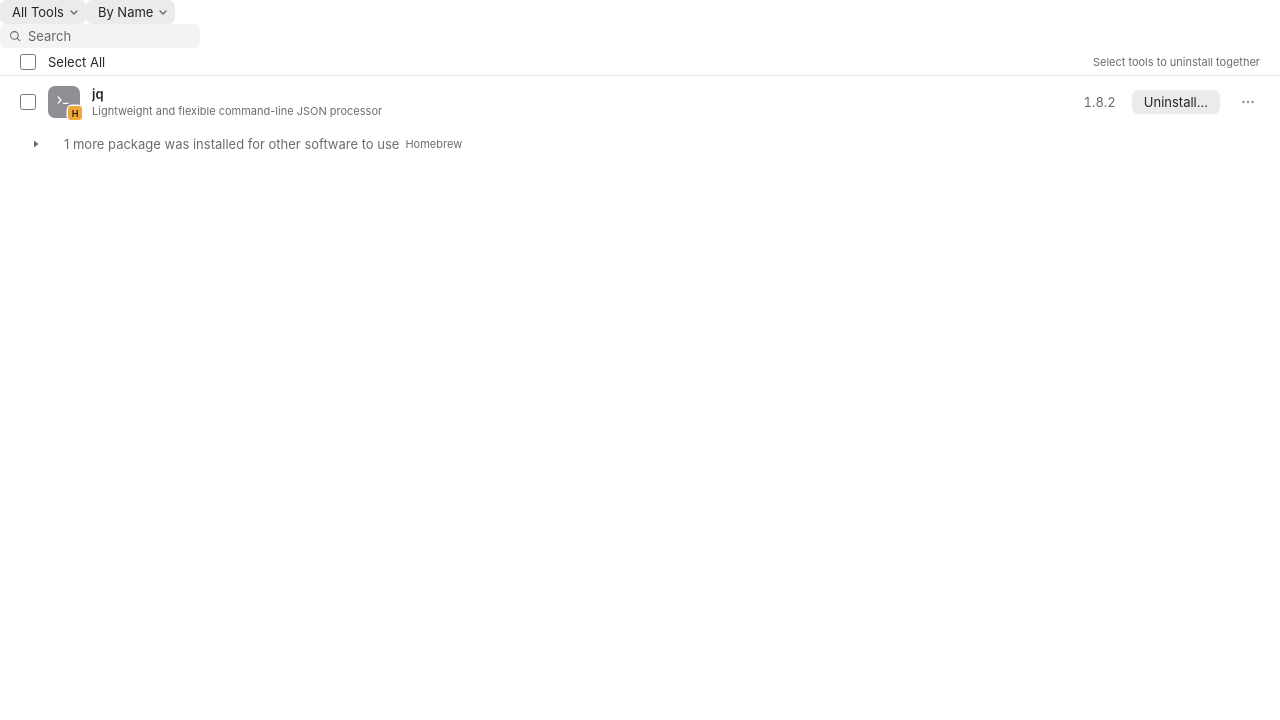
Scenario: InstalledPage › disables the dialog's confirm button when the plan reports dependents
The width and height of the screenshot is (1280, 720).
expect the text "jq" is shown: met, box [92,86,104,102]
Click the button "Uninstall…" at (1176, 102), box [1132,90,1220,114]
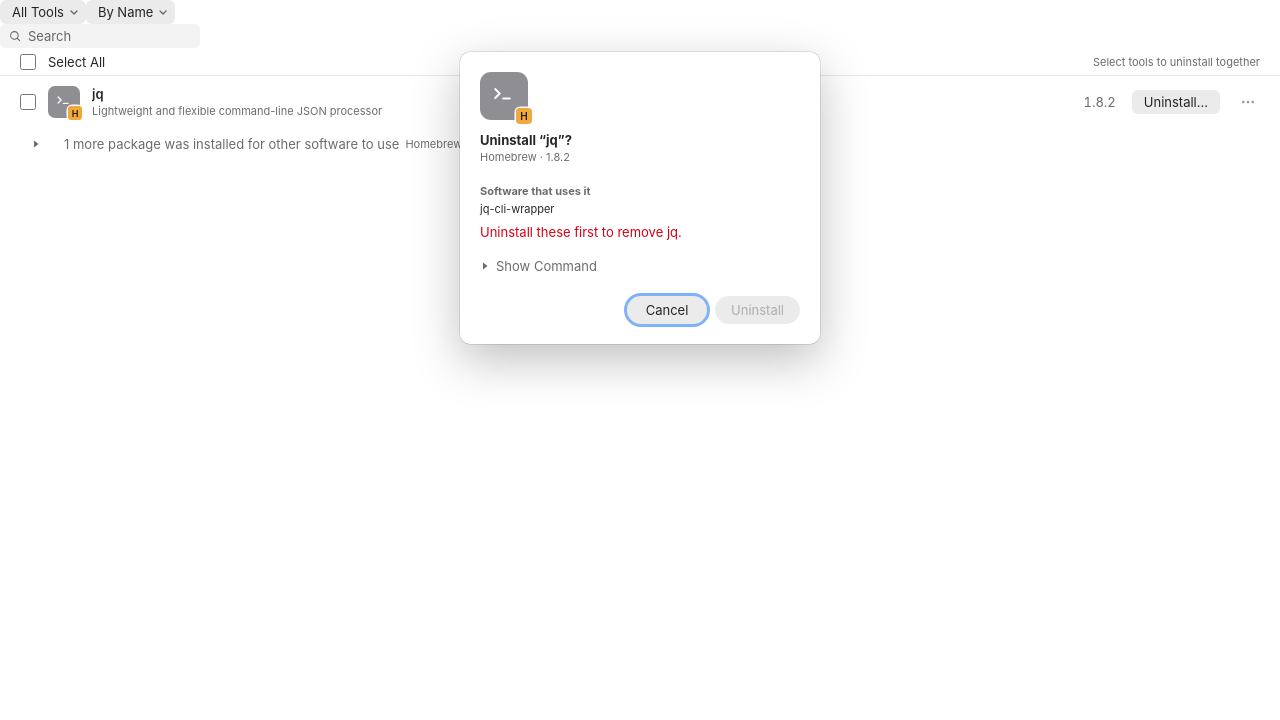
expect the list item "jq-cli-wrapper" is shown: met, box [480,202,554,216]
expect the button "Uninstall" is disabled: met, box [715,296,800,324]
